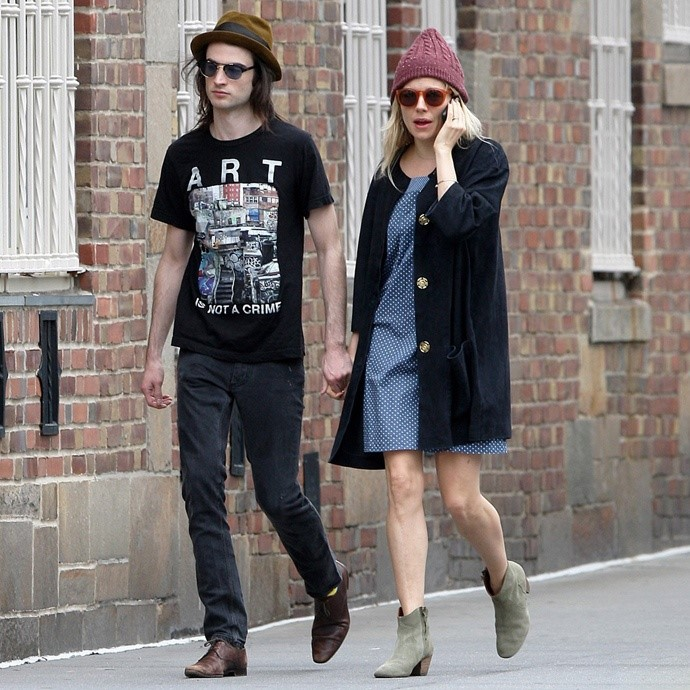face_no_mask: (392, 55, 458, 150), (198, 24, 263, 115)
